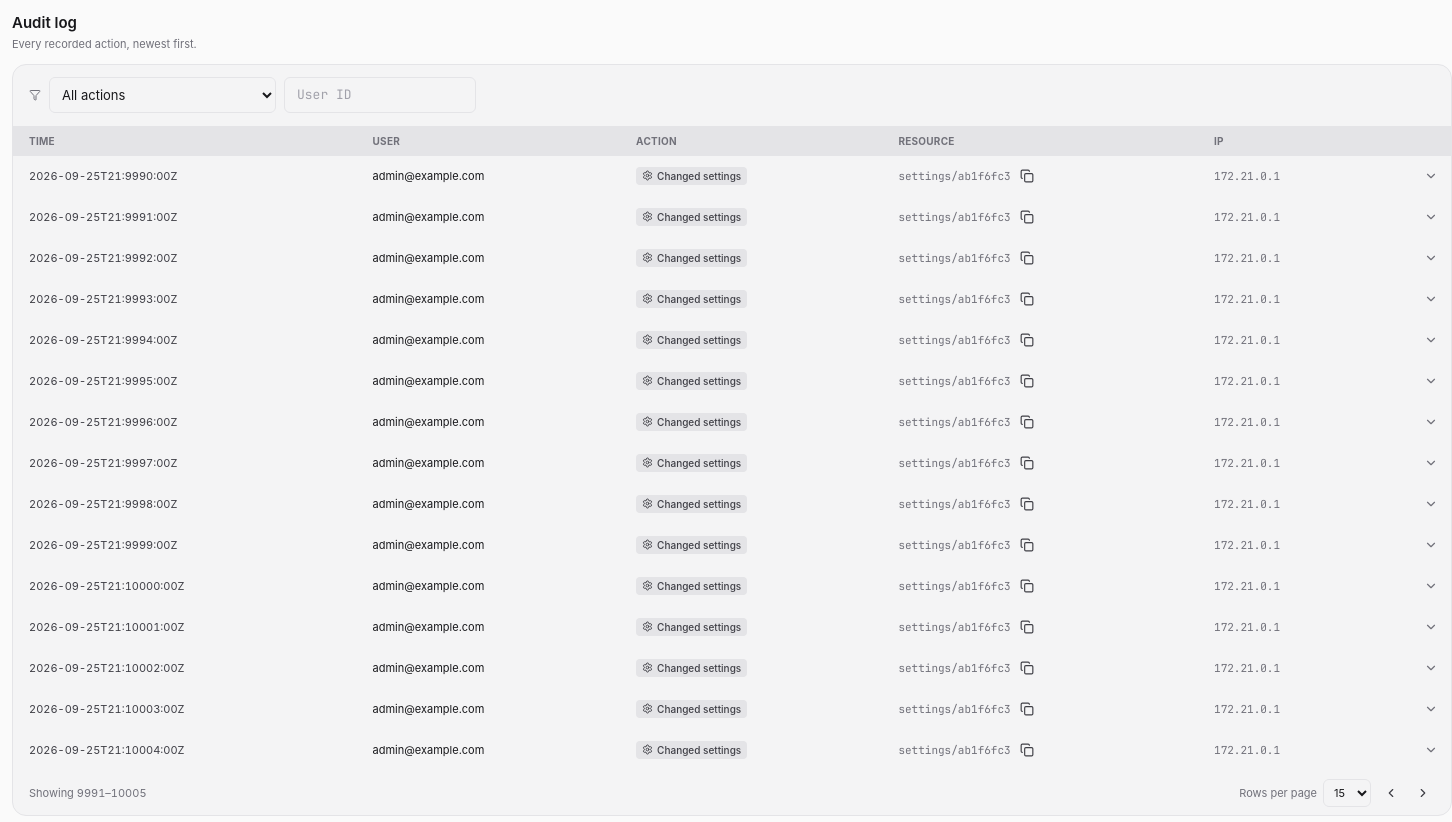
Test: AuditLogSection › follows X-Next-Cursor past the offset cap of 10 000
What coordinates should you click on to do the following:
click the button named "Next page"
I would click on:
 (1423, 793)
Its box is [1411,781,1435,805].
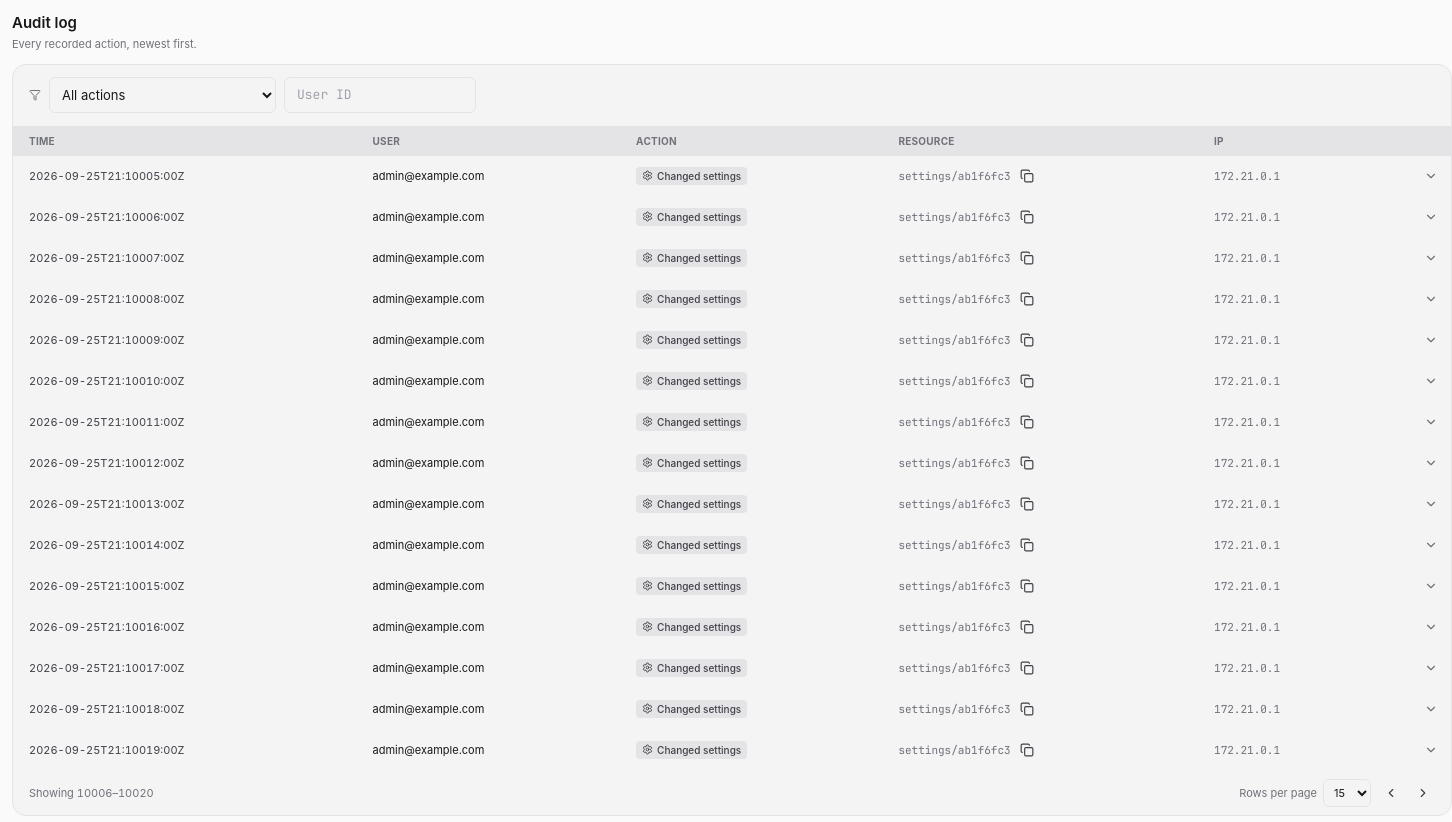
Now the navigation bar named "Audit log pagination" shows "Showing 10006–10020", box [29,786,154,800]
